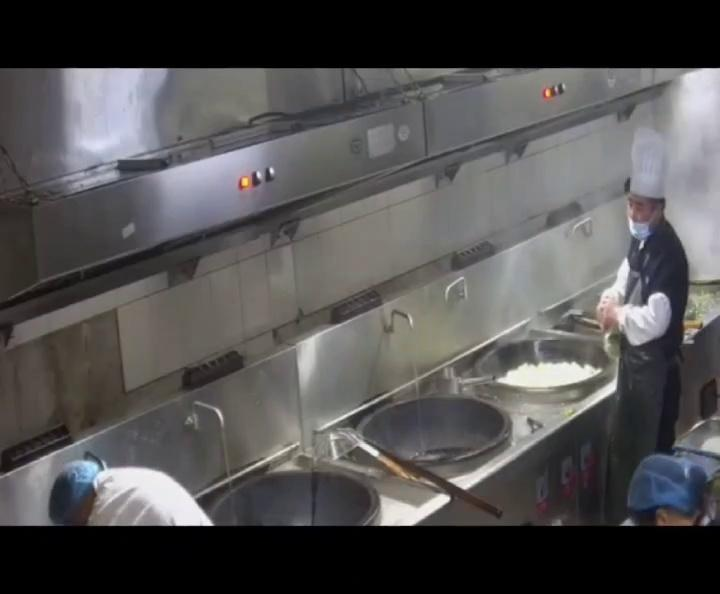mask: (44, 453, 216, 528), (620, 202, 657, 240)
